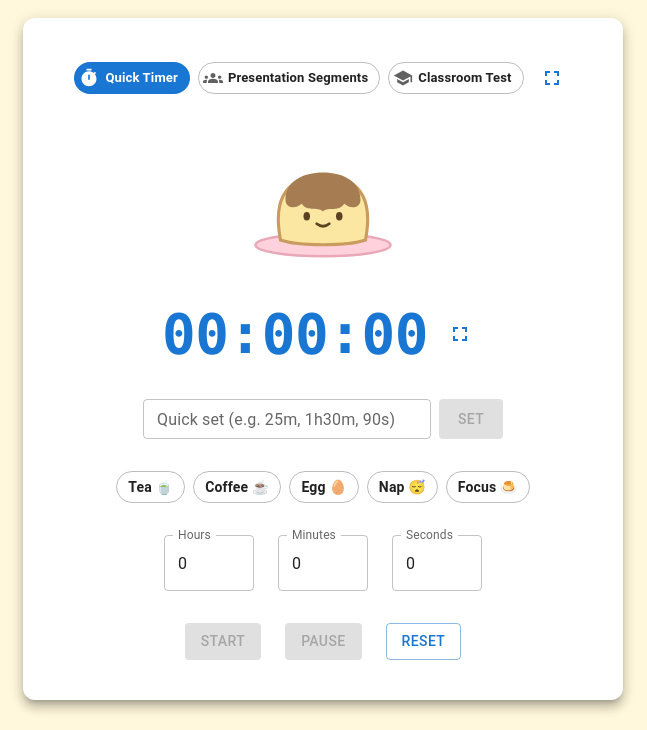
Test case: Timer › switches between Quick, Presentation, and Exam modes
This screenshot has width=647, height=730.
Click the button "Presentation Segments" at (289, 78), box [198, 62, 380, 94]
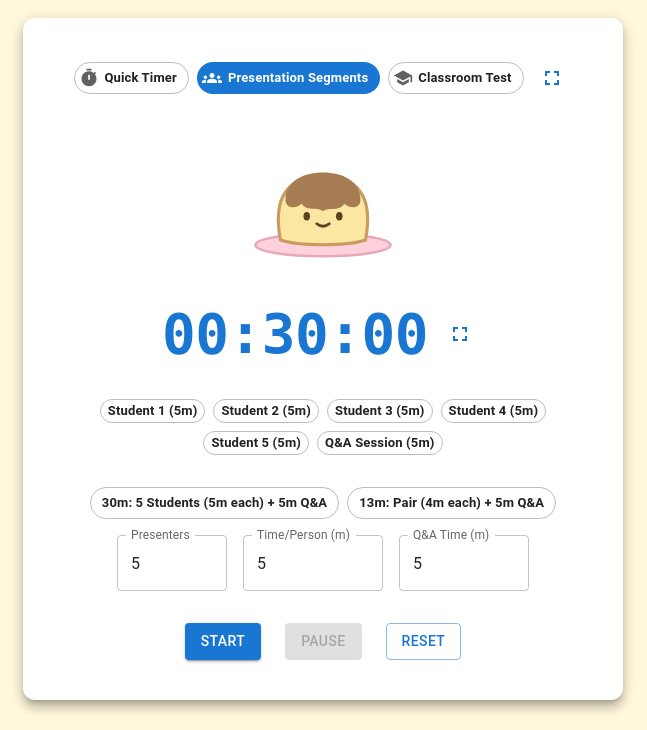
Now the text "30m: 5 Students (5m each) + 5m Q&A" is shown, box [91, 493, 338, 513]
Click the button "Classroom Test" at (456, 78), box [388, 62, 524, 94]
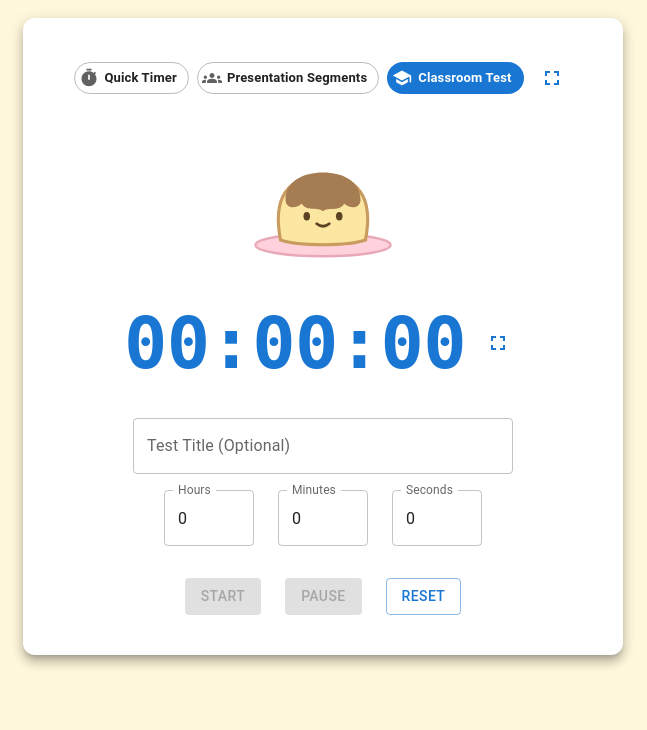
Now the field labelled "Test Title (Optional)" is shown, box [133, 418, 513, 474]
